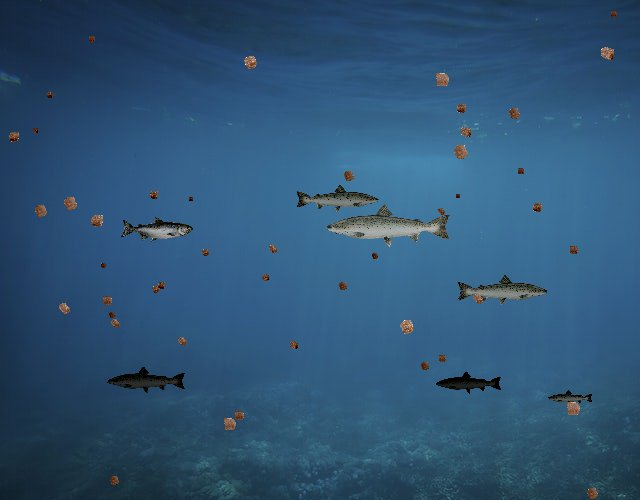Fish: (324, 202, 453, 248), (455, 273, 549, 307), (294, 183, 380, 214), (106, 366, 187, 395), (121, 217, 194, 243), (435, 370, 503, 394), (548, 390, 595, 407)
Pellet: (236, 49, 264, 77), (52, 296, 77, 321), (580, 481, 604, 500), (29, 124, 41, 136)
